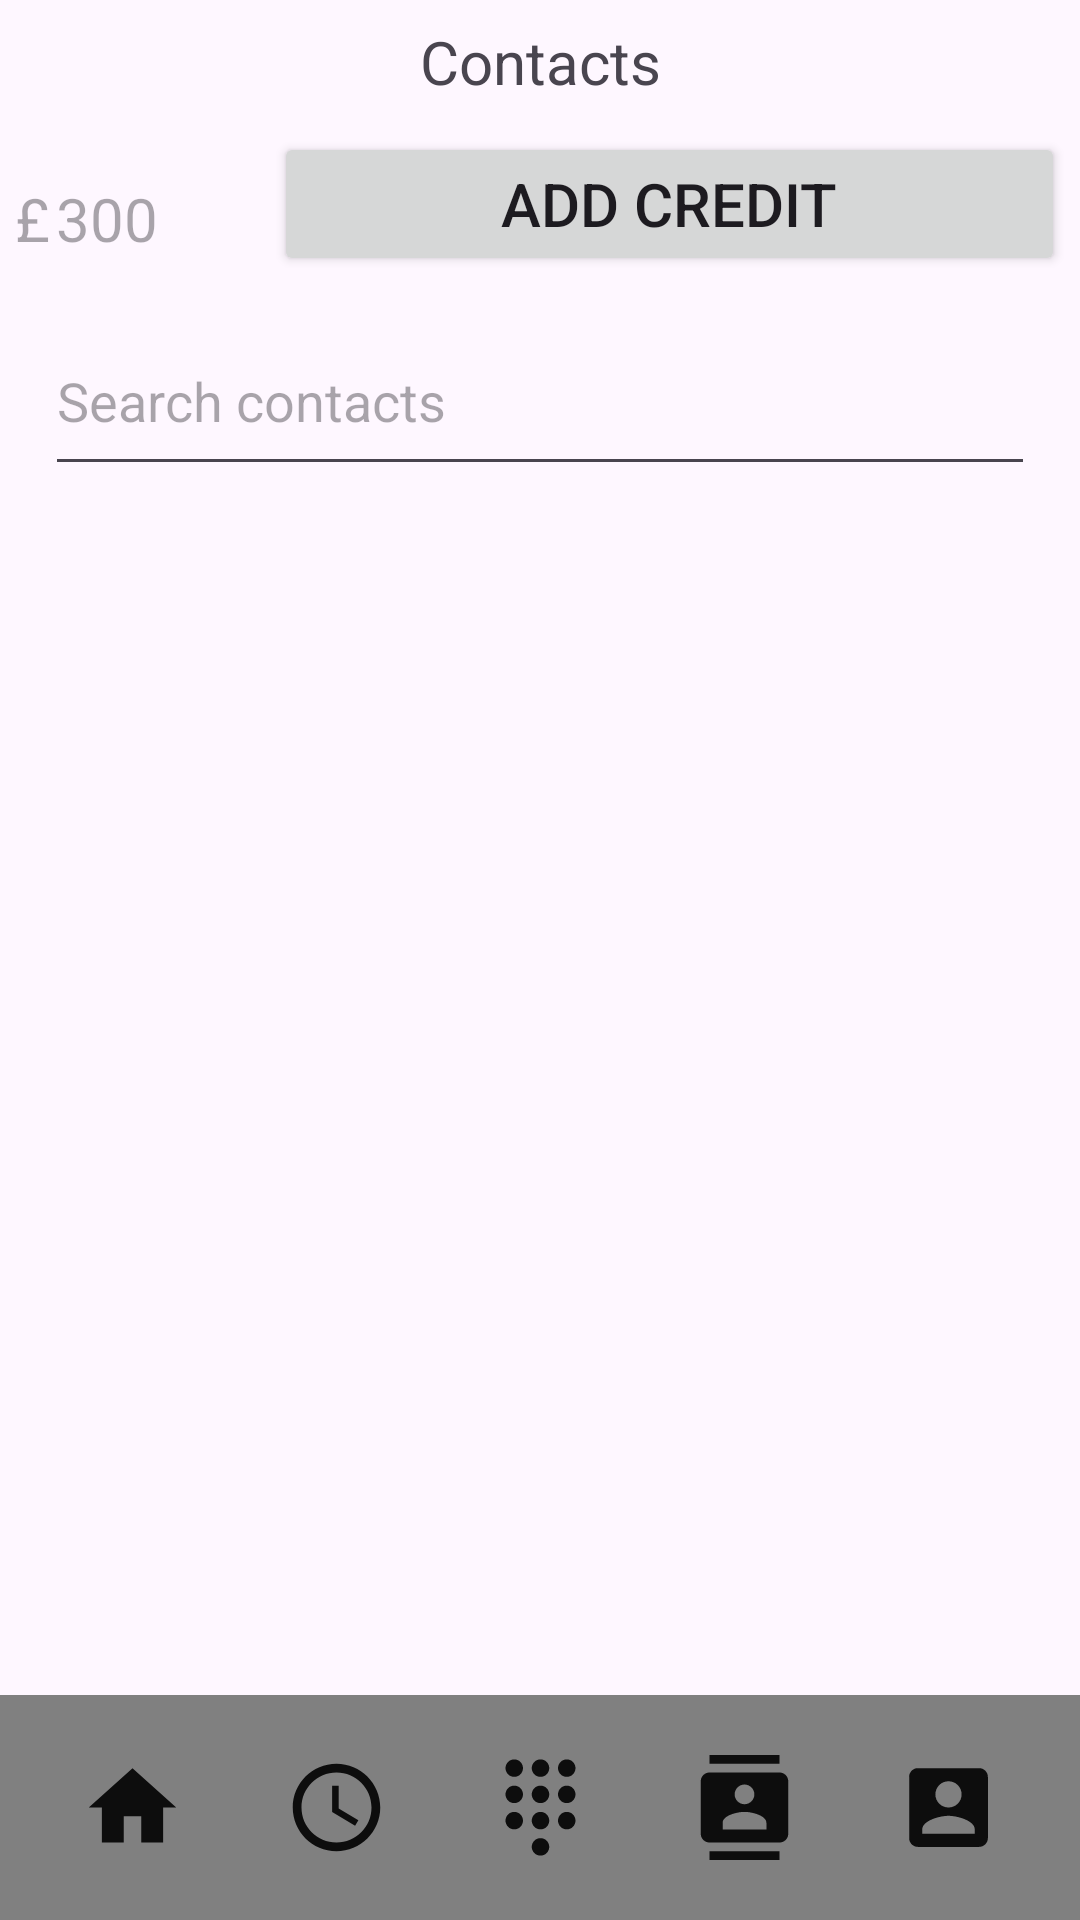

Named icons in this screenshot (1080x1920) and their bounding boxes, (x1, y1, x2, y2):
Contact: (700, 1755, 789, 1860)
Dialpad: (505, 1759, 576, 1856)
Home: (89, 1768, 176, 1843)
Profile: (909, 1768, 988, 1847)
Recent: (292, 1763, 381, 1852)
